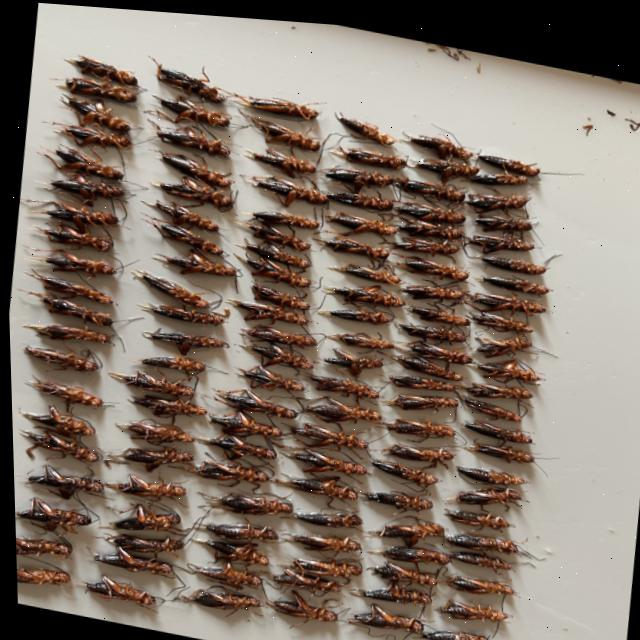no egg: (39, 201, 100, 231), (47, 174, 108, 203), (211, 385, 278, 411), (170, 586, 255, 606), (106, 368, 176, 391), (281, 443, 345, 467), (155, 62, 206, 92), (156, 148, 207, 178), (196, 431, 254, 457), (43, 144, 95, 173), (49, 121, 109, 146), (288, 418, 341, 445), (335, 106, 379, 138), (247, 112, 296, 140), (344, 600, 403, 623), (22, 377, 81, 400), (33, 223, 87, 248), (149, 174, 205, 198), (81, 573, 134, 598), (195, 490, 261, 510), (190, 559, 240, 585), (135, 301, 203, 320), (59, 92, 105, 120), (281, 529, 352, 547), (64, 54, 117, 78), (269, 564, 324, 587), (152, 125, 207, 148), (33, 274, 88, 297), (188, 537, 248, 558), (226, 296, 286, 317), (152, 219, 202, 244), (236, 336, 284, 362), (328, 140, 387, 161), (321, 343, 365, 371), (153, 249, 209, 271), (139, 268, 183, 296), (233, 361, 282, 386), (308, 370, 366, 391), (18, 409, 78, 429), (106, 473, 165, 493), (207, 408, 256, 432), (89, 548, 145, 569), (243, 253, 290, 278), (17, 430, 70, 452), (394, 350, 449, 371), (33, 292, 81, 316), (368, 453, 418, 476), (323, 162, 373, 185), (371, 518, 423, 540), (239, 321, 298, 340), (193, 519, 258, 536), (12, 499, 60, 522), (460, 390, 510, 412), (144, 198, 191, 221), (454, 459, 514, 477), (409, 128, 454, 152), (262, 145, 302, 172), (378, 438, 441, 455), (109, 507, 160, 528), (378, 412, 434, 431), (461, 435, 514, 455), (353, 577, 406, 597), (401, 250, 449, 272), (268, 588, 310, 613), (102, 532, 160, 550), (435, 593, 488, 612), (460, 413, 510, 433), (247, 93, 299, 112), (476, 145, 523, 166), (396, 211, 445, 231), (284, 471, 335, 490), (395, 195, 443, 215), (143, 328, 199, 345), (395, 317, 445, 336), (21, 344, 66, 365), (462, 375, 520, 391), (191, 457, 237, 477), (249, 279, 289, 302), (251, 172, 297, 192), (441, 526, 495, 543), (55, 76, 106, 94), (107, 446, 168, 461), (243, 240, 291, 259), (380, 388, 440, 403), (403, 334, 448, 354), (286, 553, 336, 571), (321, 281, 373, 298), (470, 286, 519, 304), (392, 231, 441, 249), (399, 172, 441, 193), (240, 218, 282, 239), (130, 395, 181, 412), (320, 231, 368, 249), (24, 474, 78, 490), (117, 420, 164, 438), (367, 555, 409, 575), (413, 152, 456, 171), (445, 544, 492, 561), (416, 623, 465, 639), (327, 258, 375, 274), (408, 300, 453, 317), (362, 486, 404, 504), (399, 279, 453, 293), (41, 252, 83, 270), (21, 324, 75, 338), (452, 481, 499, 497), (291, 507, 340, 522), (249, 206, 298, 221), (443, 503, 486, 520), (326, 207, 369, 224), (469, 306, 514, 322), (480, 247, 522, 264), (324, 187, 371, 202), (13, 567, 53, 584), (465, 186, 510, 201), (339, 327, 378, 344), (386, 369, 435, 382), (476, 355, 518, 370), (474, 331, 511, 348), (479, 268, 522, 282), (324, 303, 370, 316), (12, 536, 45, 554), (473, 208, 514, 222), (468, 228, 512, 241), (136, 354, 180, 367), (253, 145, 285, 160), (469, 166, 512, 177), (259, 523, 266, 535), (303, 103, 309, 114)
